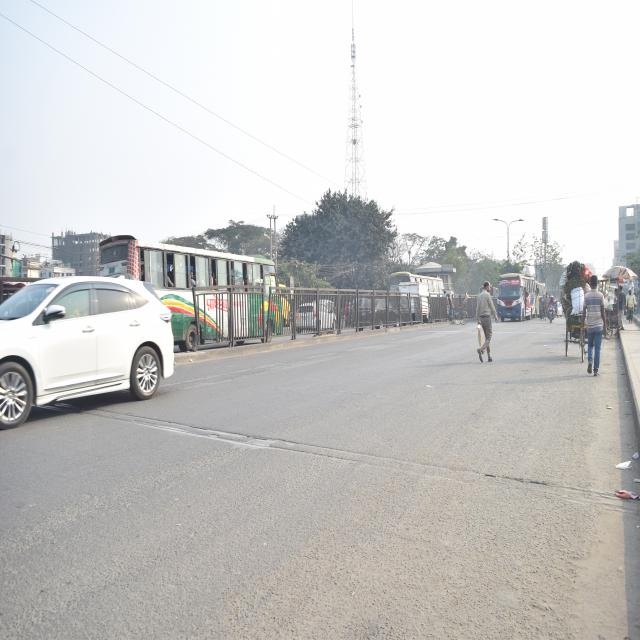bus: (165, 242, 281, 347), (496, 273, 536, 326), (535, 280, 545, 316)
car: (0, 274, 179, 438), (556, 300, 562, 318)
motorbike: (546, 301, 554, 325)
